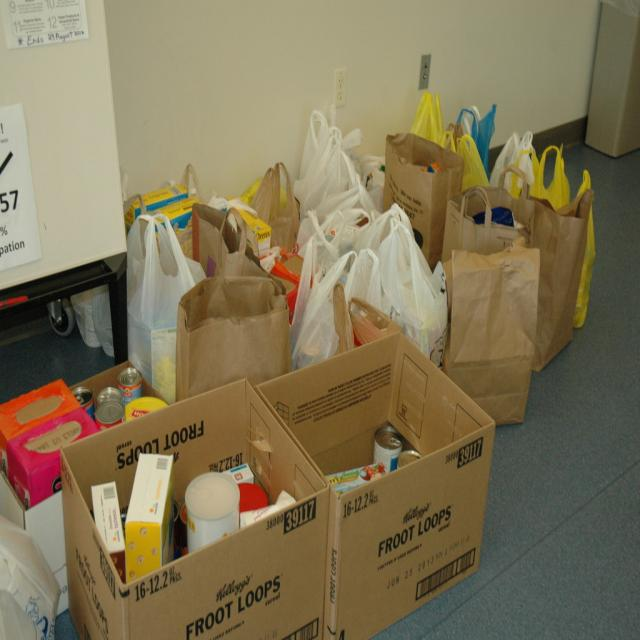Box: (256, 330, 491, 639), (62, 376, 328, 639), (3, 408, 105, 506), (0, 376, 85, 473)
